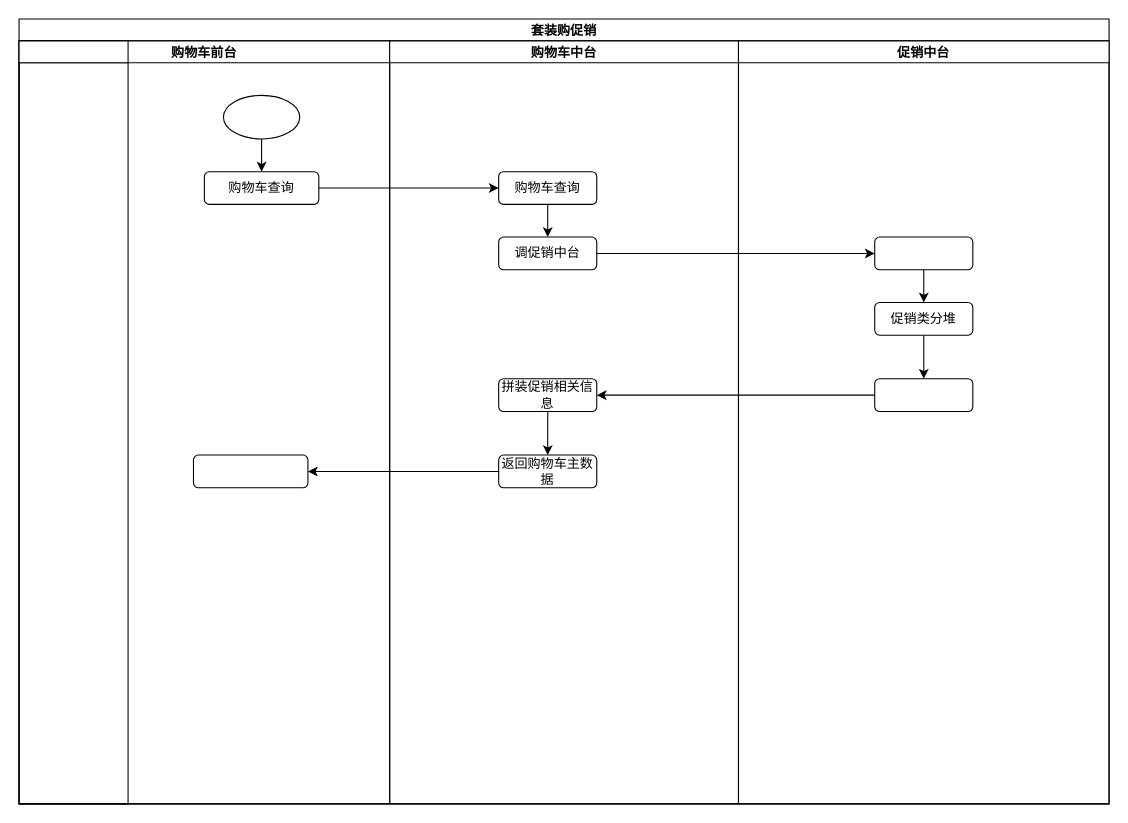
Image size: 1128x823. Some labels were removed from this diagram. The shapes that lost their labels are listed below. From the top down, each one's centre as x and y in pixels, then its label:
At (261,116): "开始".
At (923,253): "促销类型".
At (923,394): "促销价格等计算".
At (73,422): "购物车客户端".
At (250,471): "解析购物车主数据".
